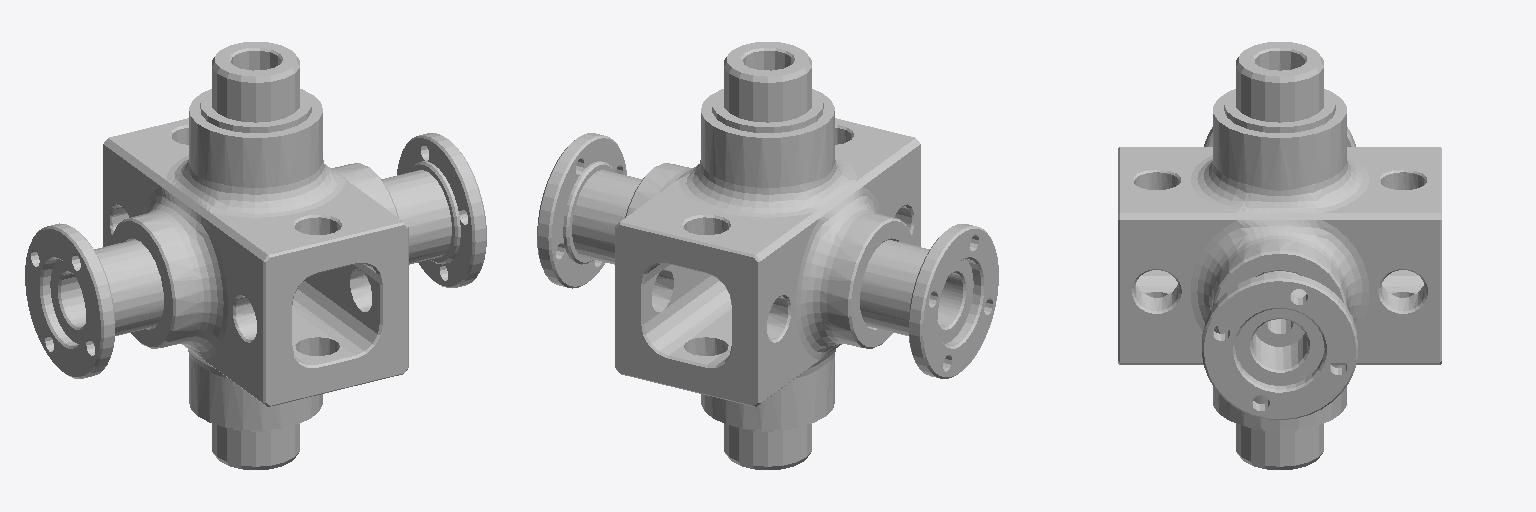
The model's file is right_foot_pitch_link.obj.
3 renders of one model, left to right at view 1: azimuth 30°, elevation 25°; view 2: azimuth 150°, elevation 25°; view 3: azimuth 270°, elevation 25°, orthographic.
Parts seen in each view (by area): view 1: right_foot_pitch_link; view 2: right_foot_pitch_link; view 3: right_foot_pitch_link.
Part boxes in pixels (bbox=[...]): right_foot_pitch_link: bbox=[25, 42, 486, 469]; right_foot_pitch_link: bbox=[537, 42, 998, 469]; right_foot_pitch_link: bbox=[1118, 42, 1441, 469].
Bounding box in the file's own units: 0.0398 × 0.0388 × 0.029.